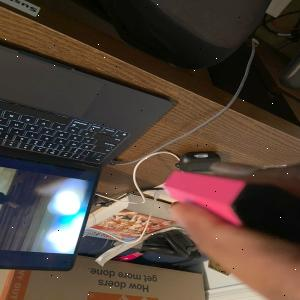Blume-E-Ciggirate: (153, 168, 286, 235)
